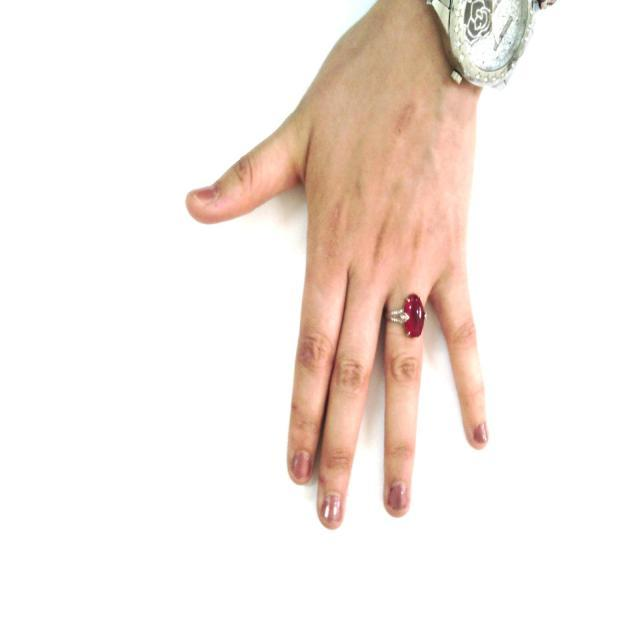Fingernail: (323, 494, 341, 523), (293, 452, 309, 481), (388, 484, 405, 510), (192, 188, 216, 202), (474, 424, 487, 444)
